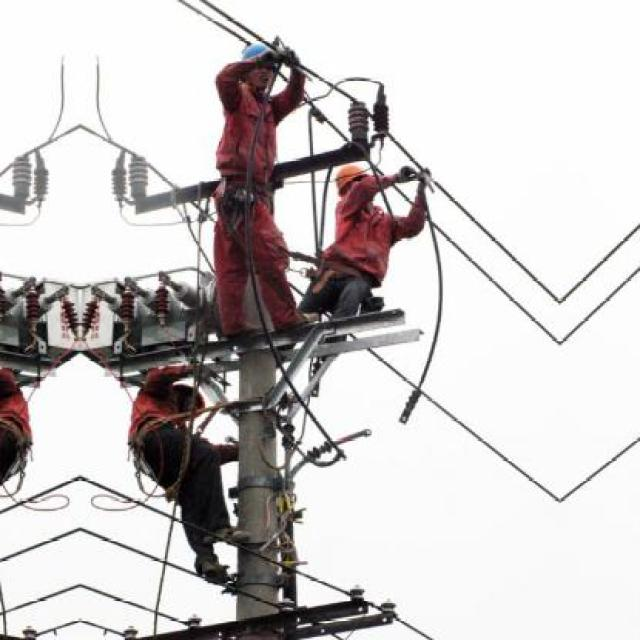helmet: (156, 378, 209, 418), (332, 163, 376, 209), (235, 42, 275, 88)
